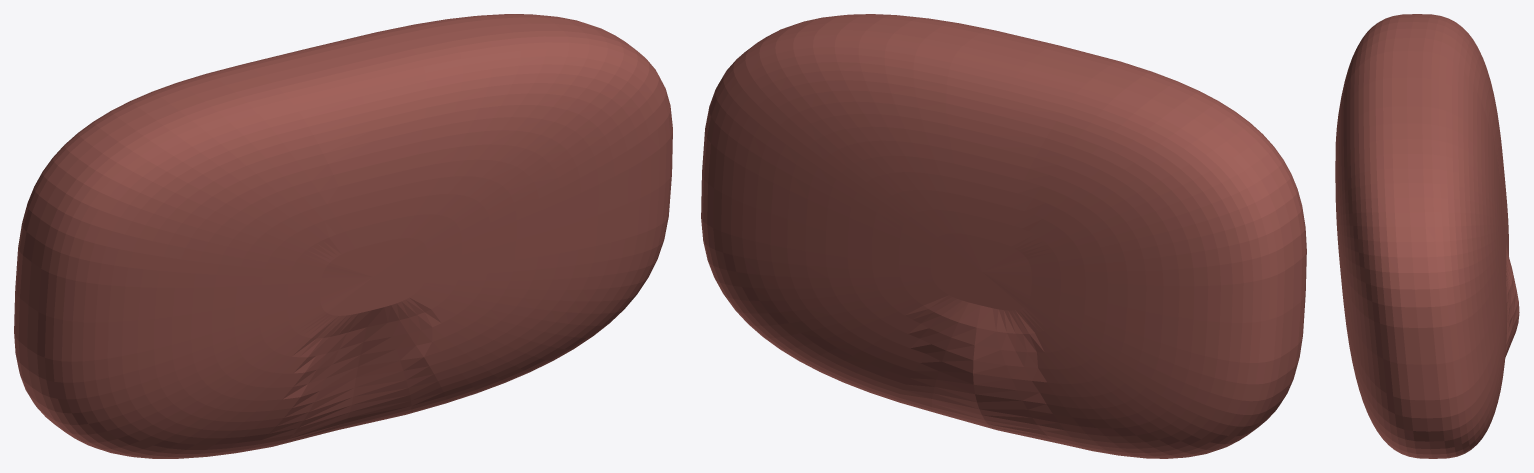
File: liver.glb
The picture shows the model from 3 angles, left to right: view 1: azimuth 30°, elevation 25°; view 2: azimuth 150°, elevation 25°; view 3: azimuth 270°, elevation 25°; orthographic projection. The views are drawn at different scales.
Parts seen in each view (by area): view 1: liver; view 2: liver; view 3: liver.
Part boxes in pixels (x1,y1,x2,y2): liver: [14, 14, 672, 458]; liver: [701, 14, 1306, 458]; liver: [1335, 14, 1519, 458].
Bounding box in the file's own units: 0.2717 × 0.156 × 0.0851.
